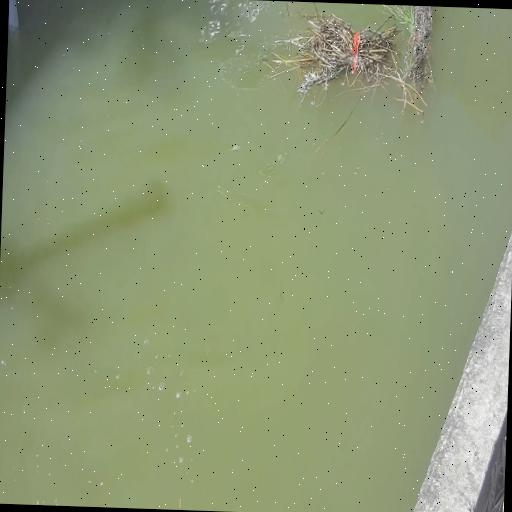twig: (262, 0, 402, 108), (372, 4, 444, 124)
